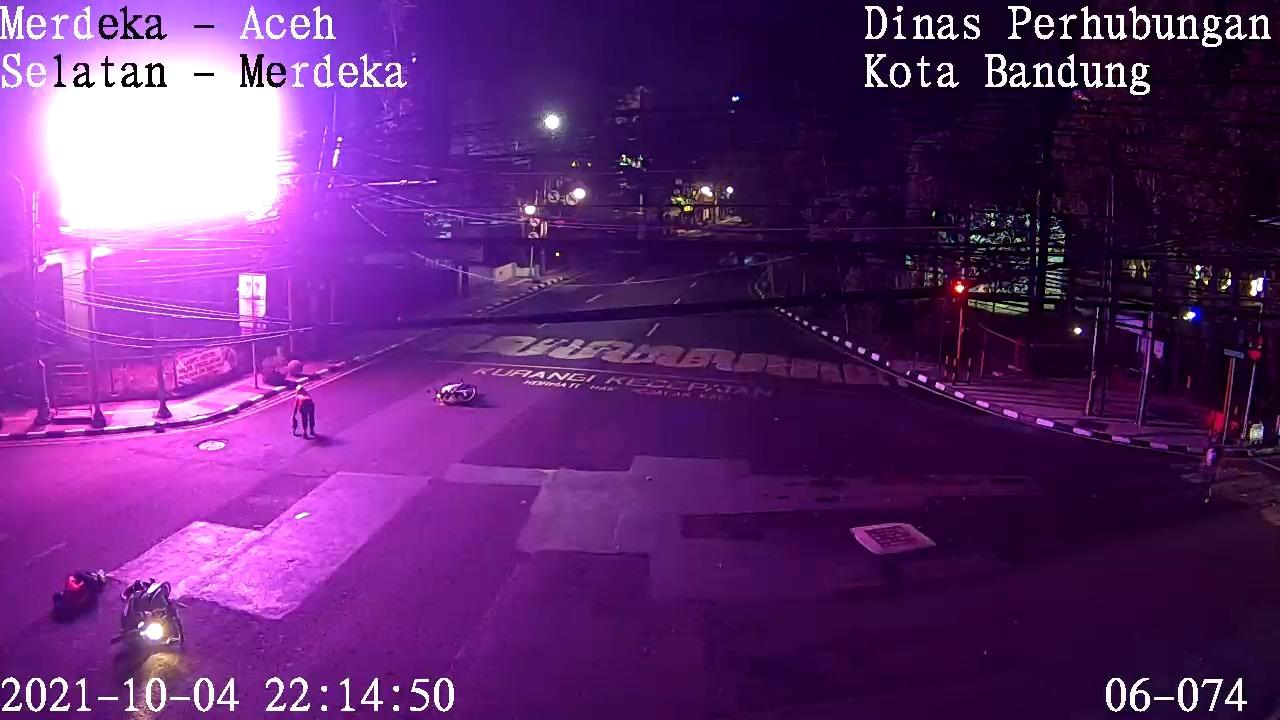accident: (29, 563, 117, 637), (280, 380, 338, 444)
